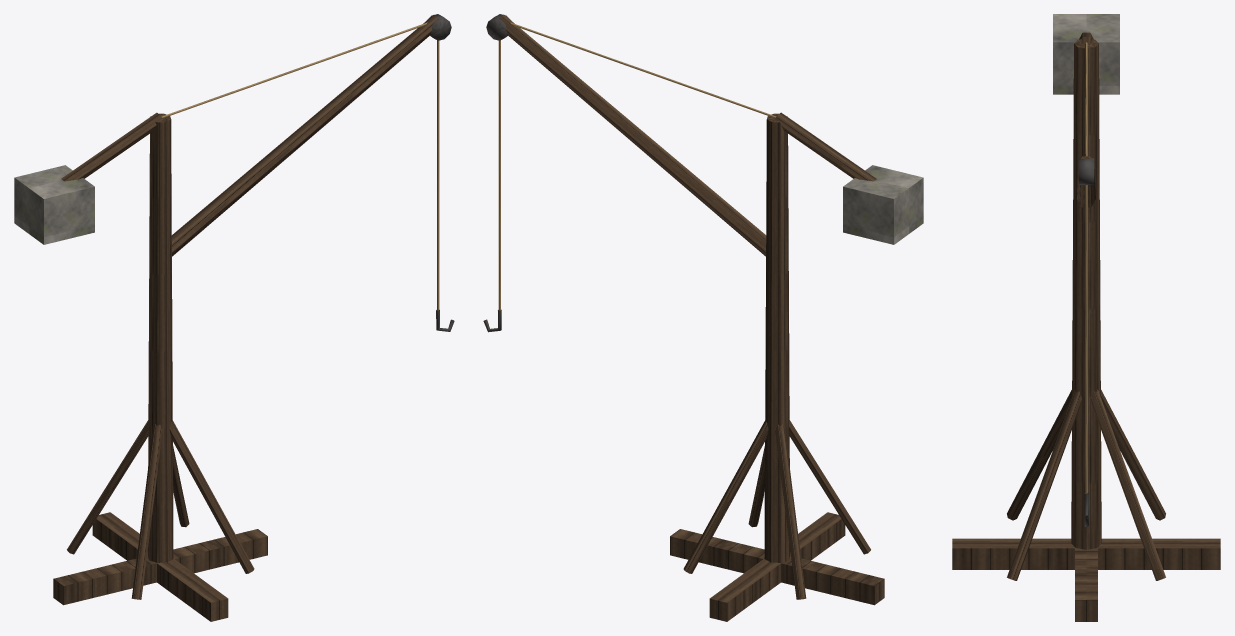
File: Crane_Wood_1.gltf
3 renders of one model, left to right at view 1: azimuth 30°, elevation 25°; view 2: azimuth 150°, elevation 25°; view 3: azimuth 270°, elevation 25°, orthographic. The views are drawn at different scales.
Parts seen in each view (by area): view 1: Crane_Wood_1; view 2: Crane_Wood_1; view 3: Crane_Wood_1.
Part boxes in pixels (x1,y1,x2,y2): Crane_Wood_1: (14, 14, 454, 621); Crane_Wood_1: (483, 14, 923, 621); Crane_Wood_1: (952, 14, 1220, 621).
Bounding box in the file's own units: 5.82 × 6.46 × 2.8.
Materials: 4 (4 with a texture image).
